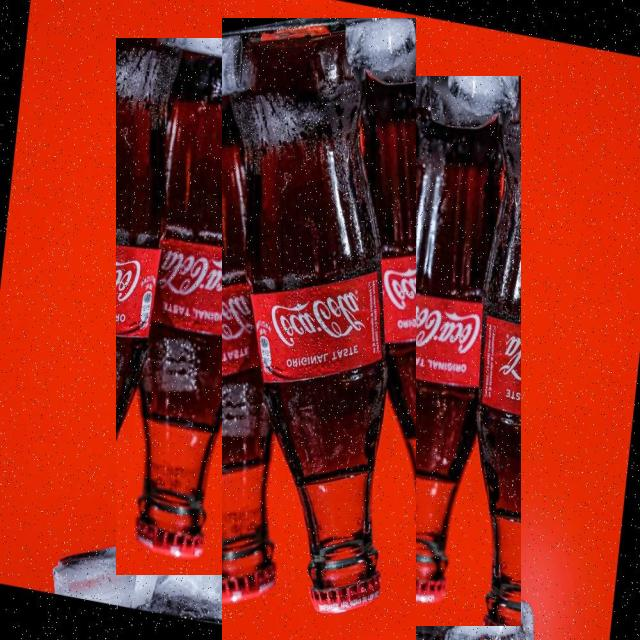coca-cola: (222, 18, 416, 640), (343, 76, 521, 626), (116, 38, 296, 575)
